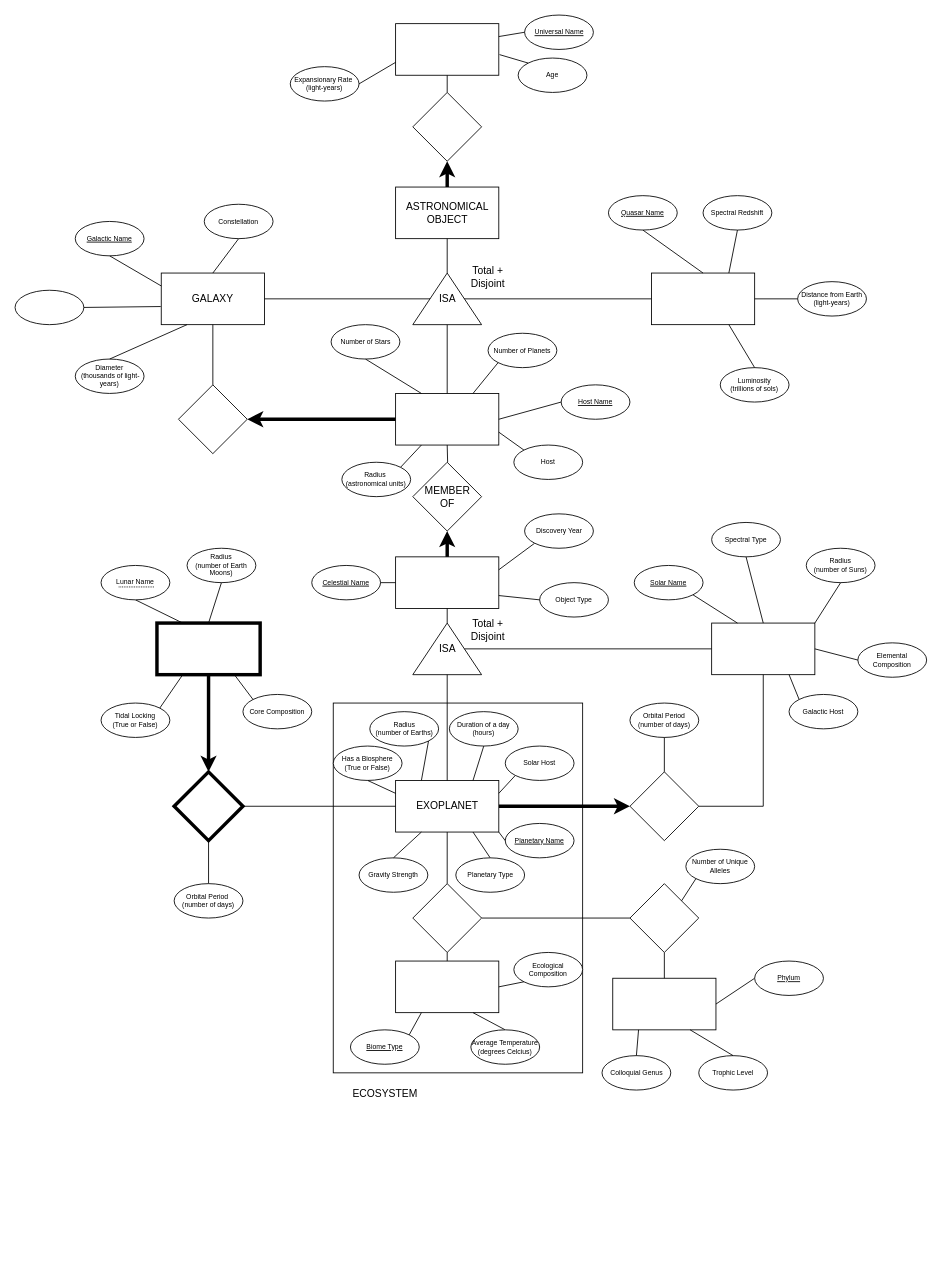
The diagram is 943 pixels wide and 1275 high, and some of its shapes have lost their labels. Each missing label, with the centre of its shape:
BIOME: the point at 447,986
CELESTIAL BODY: the point at 447,582
EXISTS INSIDE: the point at 212,419
HAS BIOME: the point at 447,917
HAS KINGDOM: the point at 664,917
IS WITHIN: the point at 447,126
KINGDOM: the point at 664,1003
MOON: the point at 208,648
ORBITS PLANET: the point at 208,806
ORBITS STAR: the point at 664,806
PLANETARY SYSTEM: the point at 447,419
QUASAR: the point at 703,298
STAR: the point at 763,648
Type: the point at 49,307
UNIVERSE: the point at 447,49
